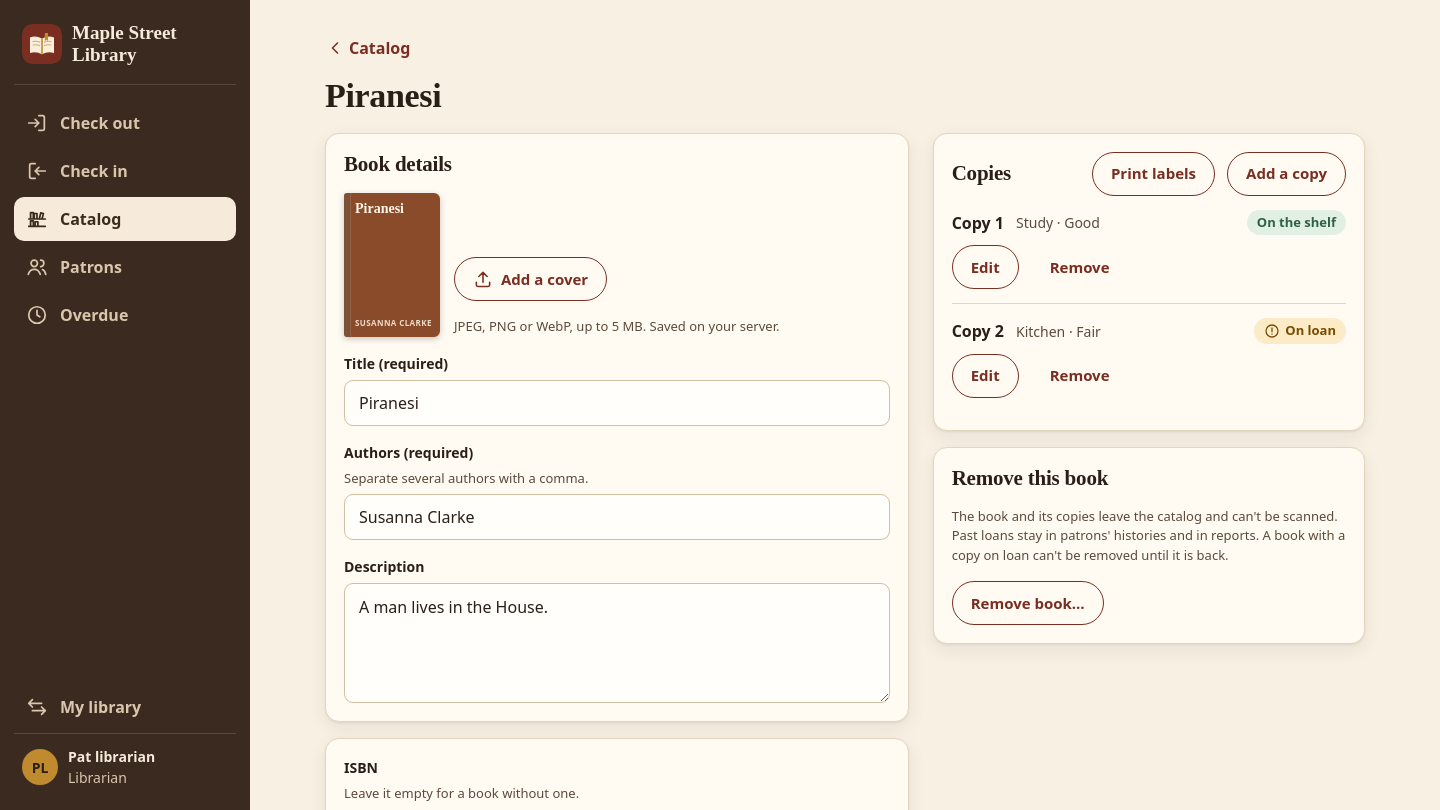
Test case: CAT-5 Manage inventory: copies › Remove checked-out copy: it is refused and the message explains why
The width and height of the screenshot is (1440, 810).
Click the button with aria-label "Remove copy 2" at {"x": 1080, "y": 376}, box [1031,354,1128,398]
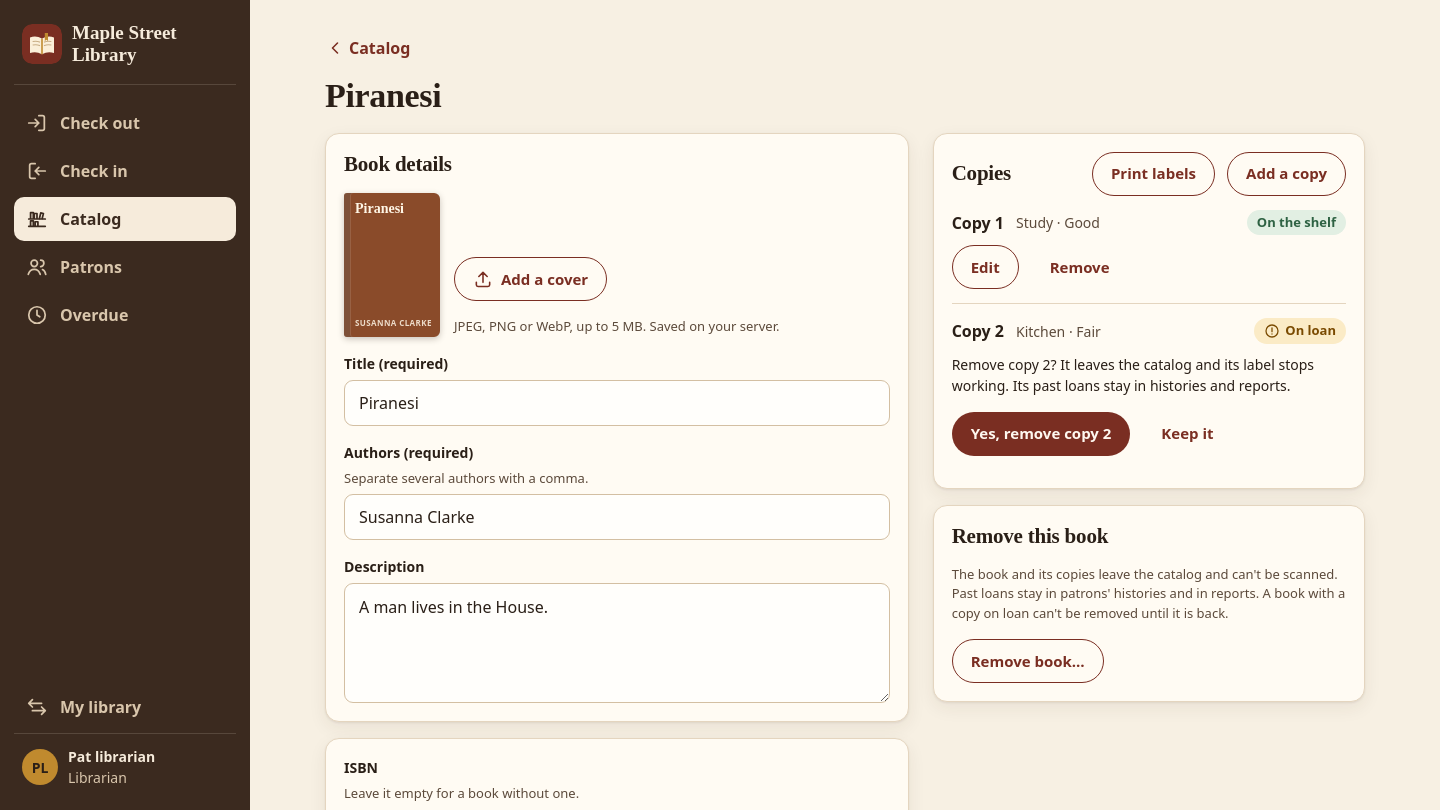
Click the button "Yes, remove copy 2" at {"x": 1041, "y": 434}, box [952,412,1130,456]
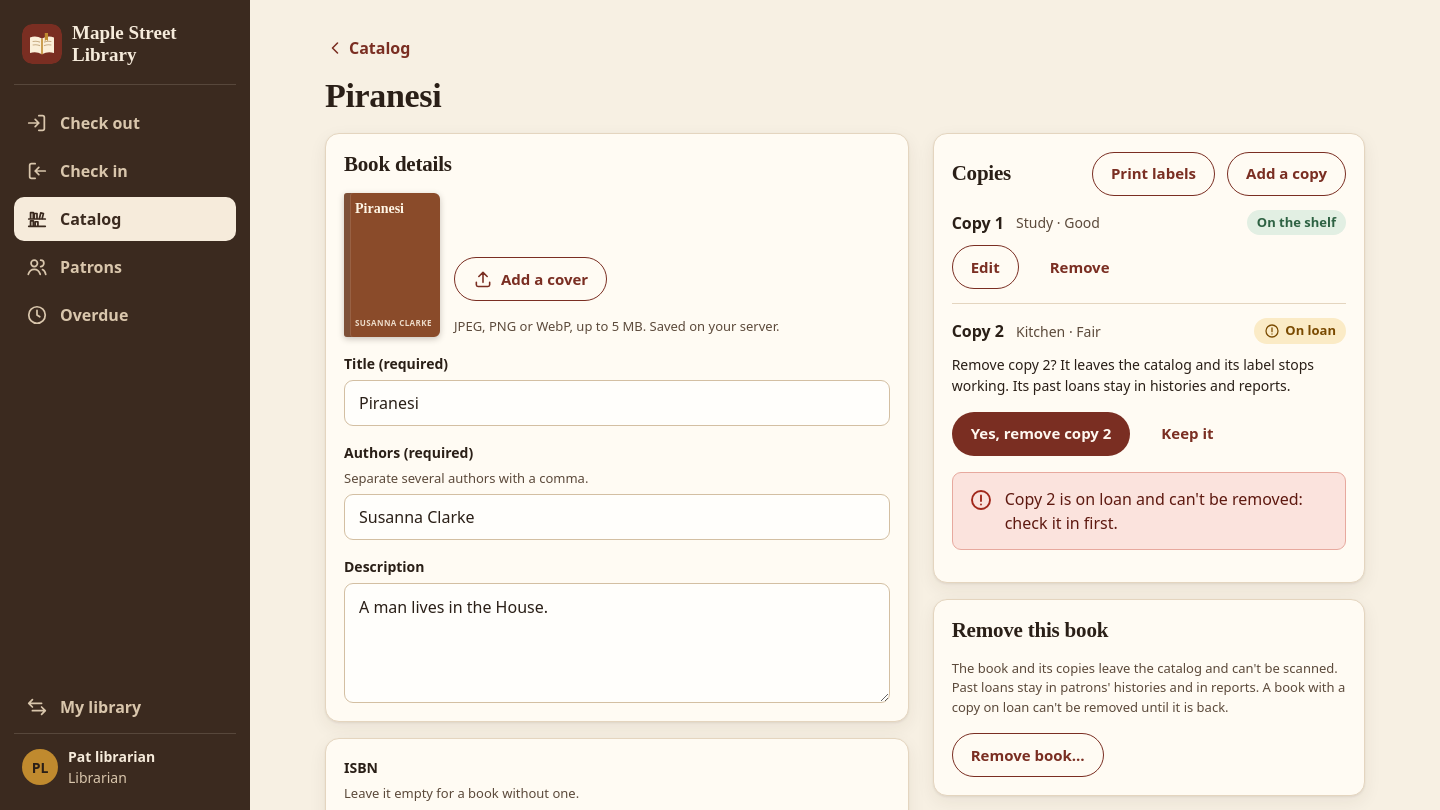
Expected: the text "On loan" is shown, [1254,318,1346,344]
Expected: the text "Copy 2 is on loan and can't be removed: check it in first." is shown, [1005,487,1329,535]
